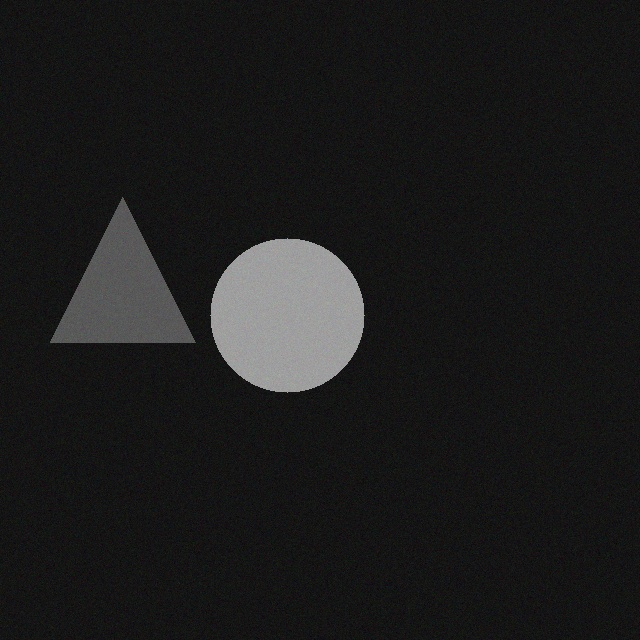circle: (196, 250, 350, 404)
triangle: (36, 209, 181, 354)
